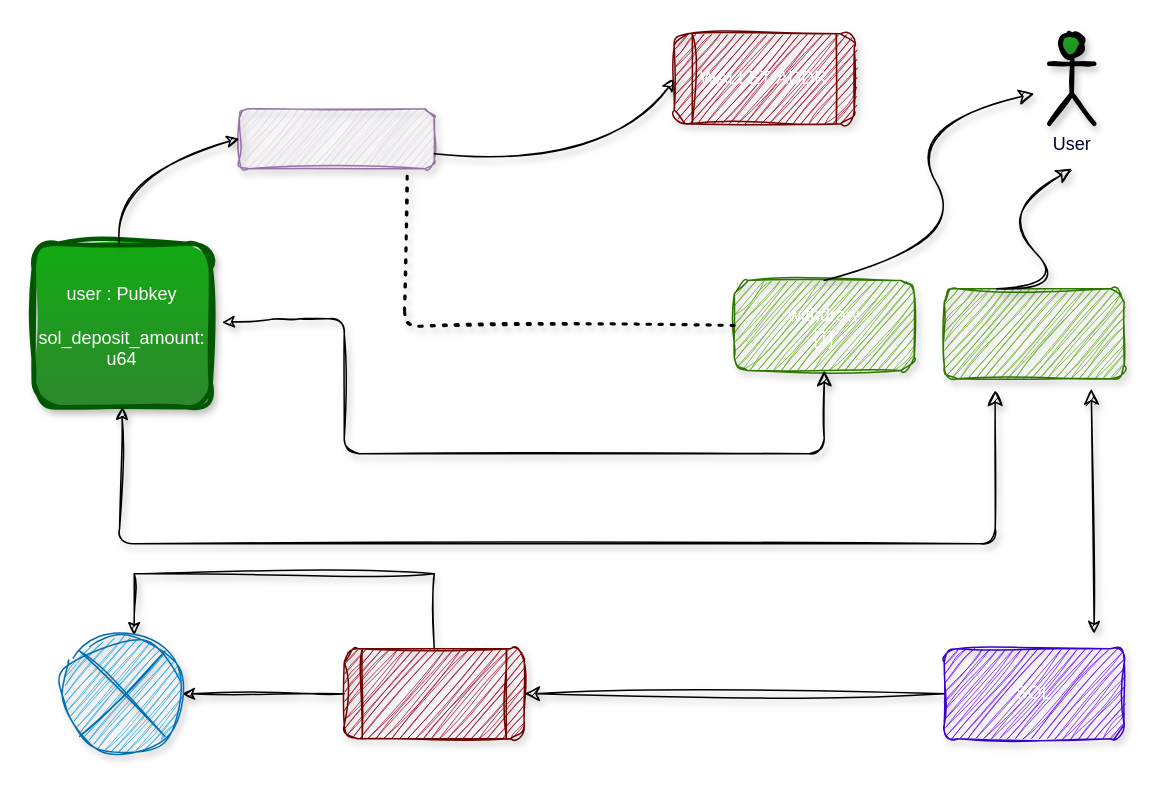
Some shapes in this 1160 by 791 pixel diagram are drawn without their labels. The centre of each missing label's shape, as x and y in pixels:
deposit [0]: point 1035,335
PROGRAM VAULT PDA: point 435,695
withdrawing: point 337,140
